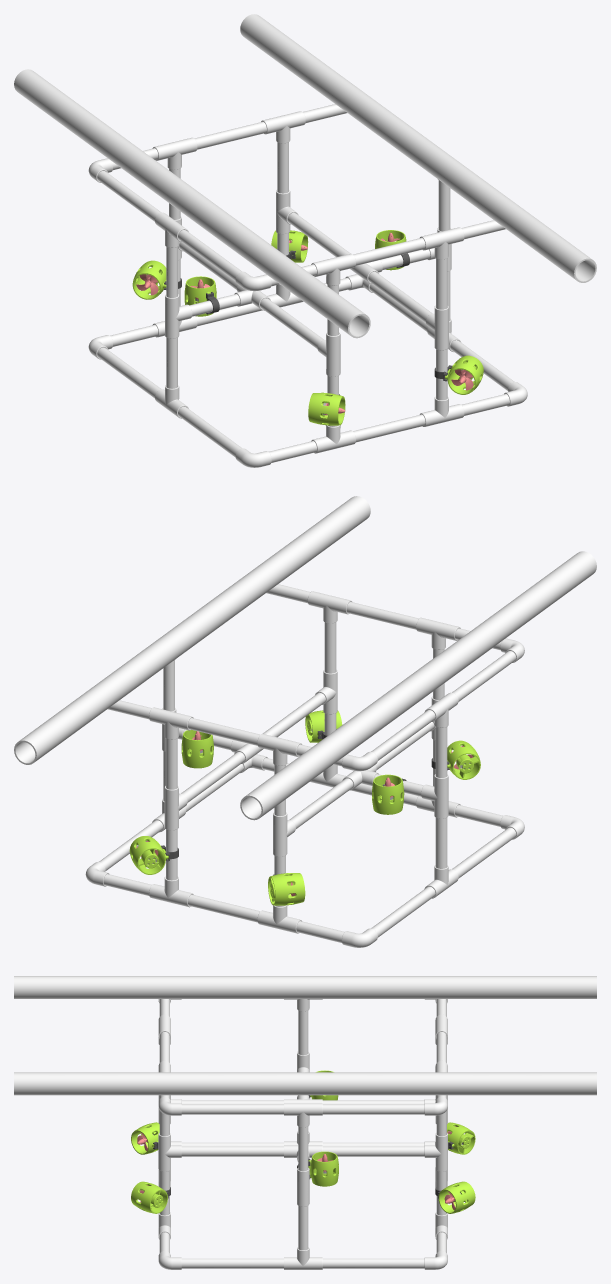
3 views of the same model, one above another, from view 1: azimuth 30°, elevation 25°; view 2: azimuth 150°, elevation 25°; view 3: azimuth 270°, elevation 25° (orthographic). The views are drawn at different scales.
Visible parts, largest first — view 1: _in_x_5ft_PVC_ballast, _in_x_5ft_PVC_ballast_01, Thruster_Shell (×4), _75in_x_825in_01, _75in_x_825in, _75in_x_825in_03, _75in_x_115in_11, _75in_x_115in_06, _75in_x_115in_07, _75in_x_115in_04, _75in_x_115in_03, _75in_x_115in_10 (+19 smaller); view 2: _in_x_5ft_PVC_ballast_01, _in_x_5ft_PVC_ballast, Thruster_Shell (×6), _75in_x_825in, _75in_x_825in_01, _75in_x_825in_02, _75in_x_115in_07, _75in_x_115in_02, _75in_x_115in_06, _75in_x_115in_04, _75in_x_115in_11, _75in_x_115in_05 (+17 smaller); view 3: _in_x_5ft_PVC_ballast_01, _in_x_5ft_PVC_ballast, Thruster_Shell (×5), _75in_x_115in_01, _75in_x_115in_12, _75in_x_115in, _75in_x_115in_09, _75in_x_115in_03, _75in_x_115in_05, _75in_tee_01, _75in_tee_24, _75in_tee_11 (+9 smaller).
Boxes of the visible parts, x1=… form: _in_x_5ft_PVC_ballast: x1=14, y1=69, x2=370, y2=338; _in_x_5ft_PVC_ballast_01: x1=240, y1=14, x2=596, y2=282; Thruster_Shell (×4): x1=132, y1=260, x2=483, y2=425; _75in_x_825in_01: x1=194, y1=121, x2=266, y2=149; _75in_x_825in: x1=353, y1=238, x2=425, y2=265; _75in_x_825in_03: x1=353, y1=414, x2=425, y2=442; _75in_x_115in_11: x1=178, y1=406, x2=241, y2=457; _75in_x_115in_06: x1=97, y1=171, x2=161, y2=221; _75in_x_115in_07: x1=97, y1=347, x2=161, y2=398; _75in_x_115in_04: x1=178, y1=230, x2=241, y2=280; _75in_x_115in_03: x1=368, y1=271, x2=431, y2=322; _75in_x_115in_10: x1=260, y1=298, x2=323, y2=348; _in_x_5ft_PVC_ballast_01: x1=14, y1=496, x2=370, y2=764; _in_x_5ft_PVC_ballast: x1=240, y1=551, x2=596, y2=820; Thruster_Shell (×6): x1=129, y1=710, x2=480, y2=905; _75in_x_825in: x1=346, y1=602, x2=418, y2=629; _75in_x_825in_01: x1=188, y1=718, x2=260, y2=745; _75in_x_825in_02: x1=188, y1=894, x2=260, y2=922; _75in_x_115in_07: x1=371, y1=886, x2=435, y2=937; _75in_x_115in_02: x1=289, y1=778, x2=353, y2=828; _75in_x_115in_06: x1=371, y1=710, x2=435, y2=760; _75in_x_115in_04: x1=452, y1=651, x2=516, y2=701; _75in_x_115in_11: x1=452, y1=827, x2=516, y2=878; _75in_x_115in_05: x1=181, y1=752, x2=245, y2=802; _in_x_5ft_PVC_ballast_01: x1=14, y1=1072, x2=596, y2=1095; _in_x_5ft_PVC_ballast: x1=14, y1=976, x2=596, y2=998; Thruster_Shell (×5): x1=131, y1=1122, x2=475, y2=1213; _75in_x_115in_01: x1=322, y1=1104, x2=424, y2=1114; _75in_x_115in_12: x1=181, y1=1104, x2=283, y2=1114; _75in_x_115in: x1=322, y1=1258, x2=424, y2=1268; _75in_x_115in_09: x1=181, y1=1258, x2=283, y2=1268; _75in_x_115in_03: x1=181, y1=1146, x2=283, y2=1156; _75in_x_115in_05: x1=322, y1=1146, x2=424, y2=1156; _75in_tee_01: x1=284, y1=1103, x2=322, y2=1127; _75in_tee_24: x1=424, y1=1133, x2=447, y2=1171; _75in_tee_11: x1=158, y1=1133, x2=181, y2=1171.
Bounding box in the file's own units: 0.7503 × 0.5348 × 1.52.
